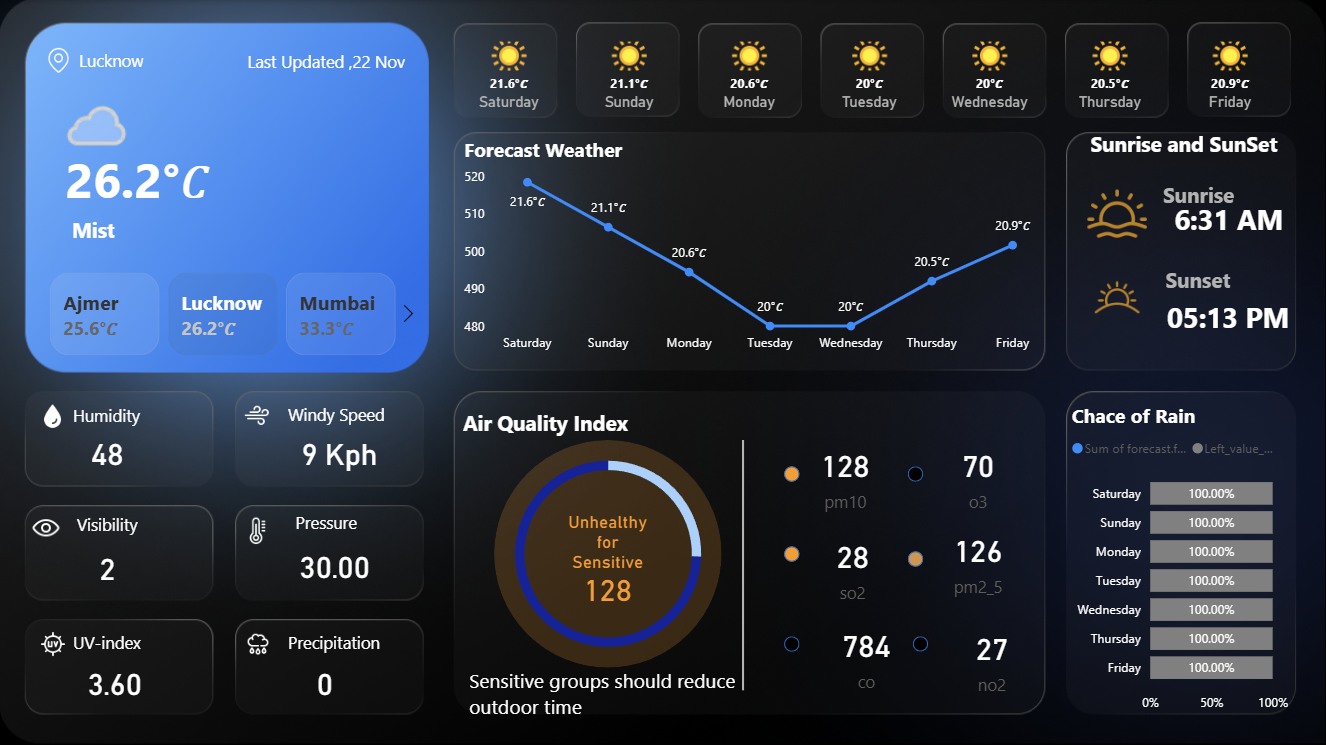

The page's visual inventory and layout, read from the dashboard file:
{"tool":"powerbi","page":{"name":"Page 1","canvas":[1280,720],"ordinal":0},"visuals":[{"type":"shape","box":[478,424.6,219.7,219.7],"z":0},{"type":"advancedSlicerVisual","fields":{"Values":["Locations.location.name"]},"box":[24.5,258.3,386.7,90.9],"z":1000},{"type":"shape","box":[41.1,125.6,186,95.4],"z":2000},{"type":"shape","box":[1.2,202.9,179.9,37.4],"z":3000},{"type":"shape","box":[45.8,39.6,124.9,35.9],"z":4000},{"type":"shape","box":[227.6,39.6,175.6,37.1],"z":5000},{"type":"image","box":[45.8,44.5,23.5,27.2],"z":6000},{"type":"cardVisual","fields":{"Data":["Min(current.current.condition.icon)"]},"box":[25.4,83.3,130.4,119.5],"z":7000},{"type":"image","box":[21,494.5,49.5,30],"z":8000},{"type":"textbox","title":"Humidity","box":[65.9,389.6,83.9,24],"z":9000},{"type":"textbox","title":"Visibility","box":[70.4,494.5,97.4,24],"z":10000},{"type":"image","box":[21,389.6,62.9,24],"z":11000},{"type":"image","box":[217.7,388.3,63.1,24.7],"z":12000},{"type":"textbox","title":"Windy Speed","box":[273.3,388.3,110.1,24.7],"z":13000},{"type":"textbox","title":"Precipitation","box":[273.3,609.7,100.2,24.7],"z":14000},{"type":"textbox","title":"UV-index","box":[66.8,609.7,84.1,24.7],"z":15000},{"type":"textbox","title":"Pressure","box":[280.7,493.4,82.9,24.7],"z":16000},{"type":"image","box":[21,609.7,63.1,24.7],"z":17000},{"type":"image","box":[218.9,609.7,63.1,24.7],"z":18000},{"type":"image","box":[218.9,499.2,62.7,25.6],"z":19000},{"type":"card","fields":{"Values":["Sum(current.current.humidity)"]},"box":[62.9,413.6,83.9,46.5],"z":20000},{"type":"card","fields":{"Values":["_measures.Wind_Speed"]},"box":[272.4,413.8,111.9,45.7],"z":21000},{"type":"card","fields":{"Values":["Sum(current.current.pressure_in)"]},"box":[281.7,523,83.9,46.5],"z":22000},{"type":"card","fields":{"Values":["Sum(current.current.vis_km)"]},"box":[62.9,524.5,83.9,46.5],"z":23000},{"type":"card","fields":{"Values":["Sum(current.current.uv)"]},"box":[70.4,635.4,83.9,46.5],"z":24000},{"type":"card","fields":{"Values":["Sum(current.current.precip_in)"]},"box":[272.7,635.4,83.9,46.5],"z":25000},{"type":"advancedSlicerVisual","fields":{"Values":["forcast_day.Day_Name"]},"box":[432.8,21.2,818,103.2],"z":26000},{"type":"lineChart","title":" Forecast Weather","fields":{"Y":["Sum(forcast_day.forecast.forecastday.day.avgtemp_c)"],"Category":["forecast_day.Day_Name"]},"box":[443.6,131.4,570.8,217.6],"z":27000},{"type":"textbox","title":"Sunrise and SunSet","box":[1048.4,125.3,201.2,35.3],"z":28000},{"type":"shape","box":[1062.6,221.7,188.6,95],"z":29000},{"type":"shape","box":[1107.2,177.1,158.4,67.7],"z":30000},{"type":"shape","box":[1078.4,152.6,158.4,67.7],"z":31000},{"type":"shape","box":[1091.4,257.7,188.6,95],"z":32000},{"type":"image","box":[1039.6,177.1,77.8,57.6],"z":33000},{"type":"image","box":[1039.6,257.7,77.8,57.6],"z":34000},{"type":"hundredPercentStackedBarChart","title":"Chace of Rain","fields":{"Category":["forecast_day.Day_Name"],"Y":["Sum(forecast_day.forecast.forecastday.day.daily_chance_of_rain)","current.Left_value_Rain"]},"box":[1029.9,388.4,219.2,307.8],"z":35000},{"type":"textbox","title":"Air Quality Index","box":[443.2,394.9,201.5,35.5],"z":36000},{"type":"card","fields":{"Values":["Sum(current.current.air_quality.pm10)"]},"box":[764.6,414.2,103.9,92],"z":37000},{"type":"card","fields":{"Values":["Sum(current.current.air_quality.o3)"]},"box":[892.9,414.2,104.8,91.9],"z":38000},{"type":"card","fields":{"Values":["Sum(current.current.air_quality.so2)"]},"box":[772,501.8,103.9,90.6],"z":39000},{"type":"card","fields":{"Values":["Sum(current.current.air_quality.pm2_5)"]},"box":[892.9,496.4,104.8,91.9],"z":40000},{"type":"card","fields":{"Values":["Sum(current.current.air_quality.co)"]},"box":[785.4,587.9,103.9,92],"z":41000},{"type":"card","fields":{"Values":["Sum(current.current.air_quality.no2)"]},"box":[905.8,589.9,104.8,91.9],"z":42000},{"type":"shape","box":[757.1,449.8,15,15],"z":43000},{"type":"shape","box":[877.4,531.5,15,15],"z":44000},{"type":"shape","box":[877.4,449.8,15,15],"z":45000},{"type":"shape","box":[757.1,527,15,15],"z":46000},{"type":"shape","box":[757.1,614.6,15,15],"z":47000},{"type":"shape","box":[881.8,614.6,14.8,14.8],"z":48000},{"type":"shape","box":[697.8,424.6,41.6,242],"z":49000},{"type":"donutChart","fields":{"Y":["Sum(current.current.air_quality.pm10)","_measures.Left_value_PM10"]},"box":[469.1,417.2,237.5,234.6],"z":50000},{"type":"card","fields":{"Values":["Sum(current.current.air_quality.pm10)"]},"box":[535.9,492.9,103.9,92],"z":51000},{"type":"textbox","box":[448.3,644.3,279.1,47.5],"z":52000}]}

Visuals, with their boxes in screenshot pixels (x1, y1, x2, y2), scaled from the page's 1280x720 canvas onto the 1326x745 screenshot:
shape: region(495, 439, 723, 667)
advancedSlicerVisual - Locations.location.name: region(25, 267, 426, 361)
shape: region(43, 130, 235, 229)
shape: region(1, 210, 188, 249)
shape: region(47, 41, 177, 78)
shape: region(236, 41, 418, 79)
image: region(47, 46, 72, 74)
cardVisual - Min(current.current.condition.icon): region(26, 86, 161, 210)
image: region(22, 512, 73, 543)
"Humidity" textbox: region(68, 403, 155, 428)
"Visibility" textbox: region(73, 512, 174, 537)
image: region(22, 403, 87, 428)
image: region(226, 402, 291, 427)
"Windy Speed" textbox: region(283, 402, 397, 427)
"Precipitation" textbox: region(283, 631, 387, 656)
"UV-index" textbox: region(69, 631, 156, 656)
"Pressure" textbox: region(291, 511, 377, 536)
image: region(22, 631, 87, 656)
image: region(227, 631, 292, 656)
image: region(227, 517, 292, 543)
card - Sum(current.current.humidity): region(65, 428, 152, 476)
card - _measures.Wind_Speed: region(282, 428, 398, 475)
card - Sum(current.current.pressure_in): region(292, 541, 379, 589)
card - Sum(current.current.vis_km): region(65, 543, 152, 591)
card - Sum(current.current.uv): region(73, 657, 160, 706)
card - Sum(current.current.precip_in): region(283, 657, 369, 706)
advancedSlicerVisual - forcast_day.Day_Name: region(448, 22, 1296, 129)
" Forecast Weather" lineChart: region(460, 136, 1051, 361)
"Sunrise and SunSet" textbox: region(1086, 130, 1295, 166)
shape: region(1101, 229, 1296, 328)
shape: region(1147, 183, 1311, 253)
shape: region(1117, 158, 1281, 228)
shape: region(1131, 267, 1325, 365)
image: region(1077, 183, 1158, 243)
image: region(1077, 267, 1158, 326)
"Chace of Rain" hundredPercentStackedBarChart: region(1067, 402, 1294, 720)
"Air Quality Index" textbox: region(459, 409, 668, 445)
card - Sum(current.current.air_quality.pm10): region(792, 429, 900, 524)
card - Sum(current.current.air_quality.o3): region(925, 429, 1034, 524)
card - Sum(current.current.air_quality.so2): region(800, 519, 907, 613)
card - Sum(current.current.air_quality.pm2_5): region(925, 514, 1034, 609)
card - Sum(current.current.air_quality.co): region(814, 608, 921, 704)
card - Sum(current.current.air_quality.no2): region(938, 610, 1047, 705)
shape: region(784, 465, 800, 481)
shape: region(909, 550, 924, 565)
shape: region(909, 465, 924, 481)
shape: region(784, 545, 800, 561)
shape: region(784, 636, 800, 651)
shape: region(913, 636, 929, 651)
shape: region(723, 439, 766, 690)
donutChart - Sum(current.current.air_quality.pm10) x _measures.Left_value_PM10: region(486, 432, 732, 674)
card - Sum(current.current.air_quality.pm10): region(555, 510, 663, 605)
textbox: region(464, 667, 754, 716)
